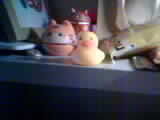duck: (66, 27, 115, 80)
